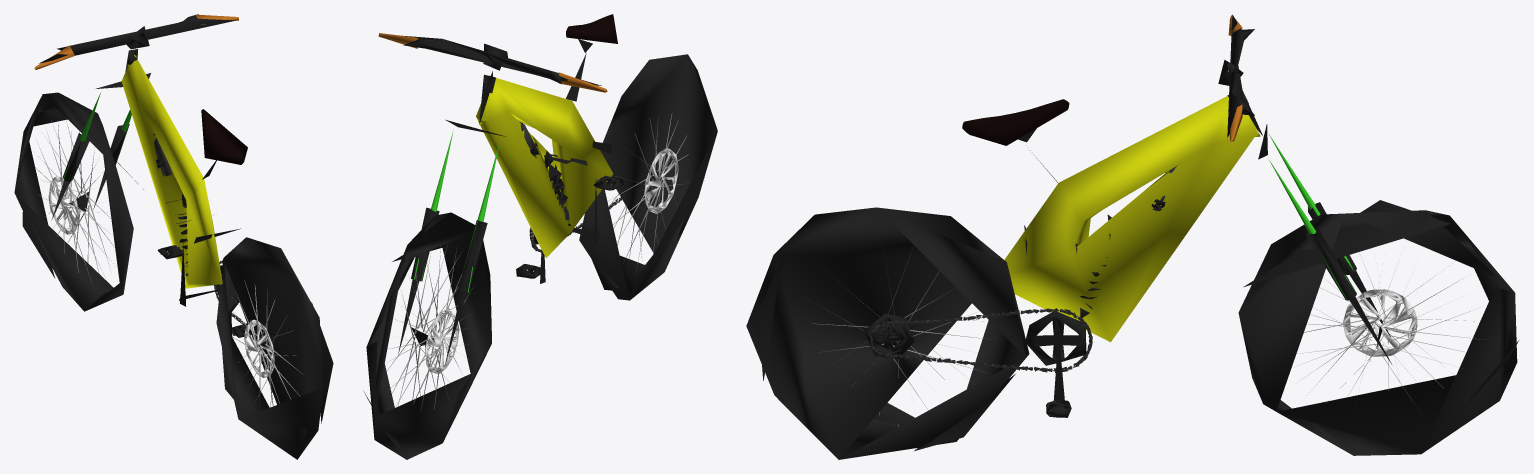
Rendered from bike.glb.
3 views of the same model, side by side, from view 1: azimuth 30°, elevation 25°; view 2: azimuth 150°, elevation 25°; view 3: azimuth 270°, elevation 25° (orthographic). The views are drawn at different scales.
Parts seen in each view (by area): view 1: ban_belakang_Torus.001; view 2: ban_belakang_Torus.001; view 3: ban_belakang_Torus.001.
Part boxes in pixels (x1,y1,x2,y2): ban_belakang_Torus.001: [14, 14, 333, 459]; ban_belakang_Torus.001: [363, 14, 717, 459]; ban_belakang_Torus.001: [746, 14, 1518, 459].
Size of the model in its own units: 0.6659 by 0.9964 by 1.75.
